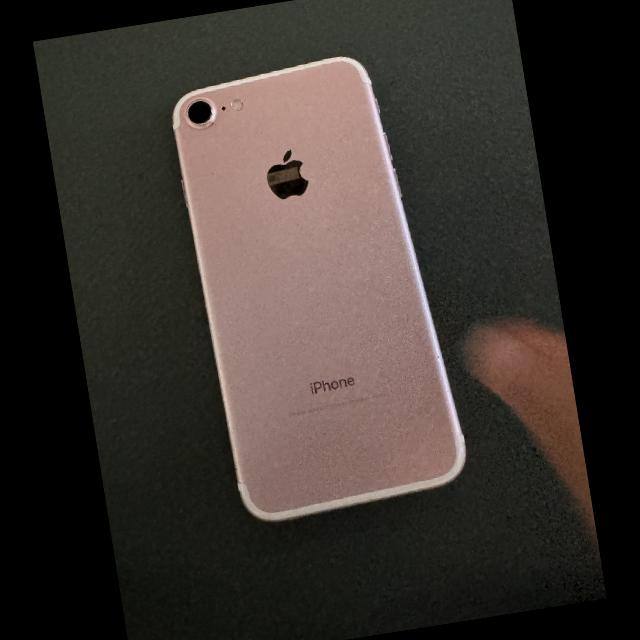lens: (188, 101, 212, 125)
phone: (173, 57, 466, 521)
